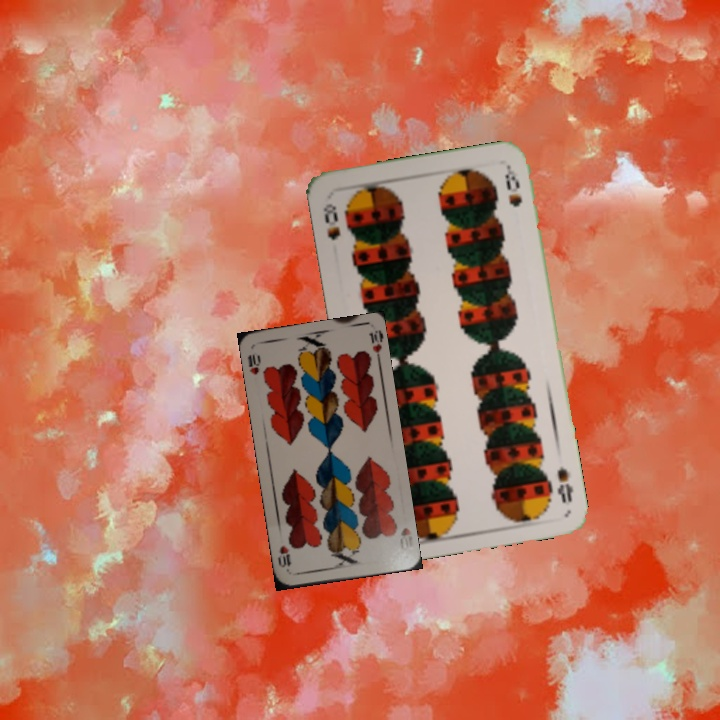H10: (396, 524, 415, 553), (244, 350, 263, 377)
S8: (319, 199, 343, 243), (553, 462, 576, 506)
